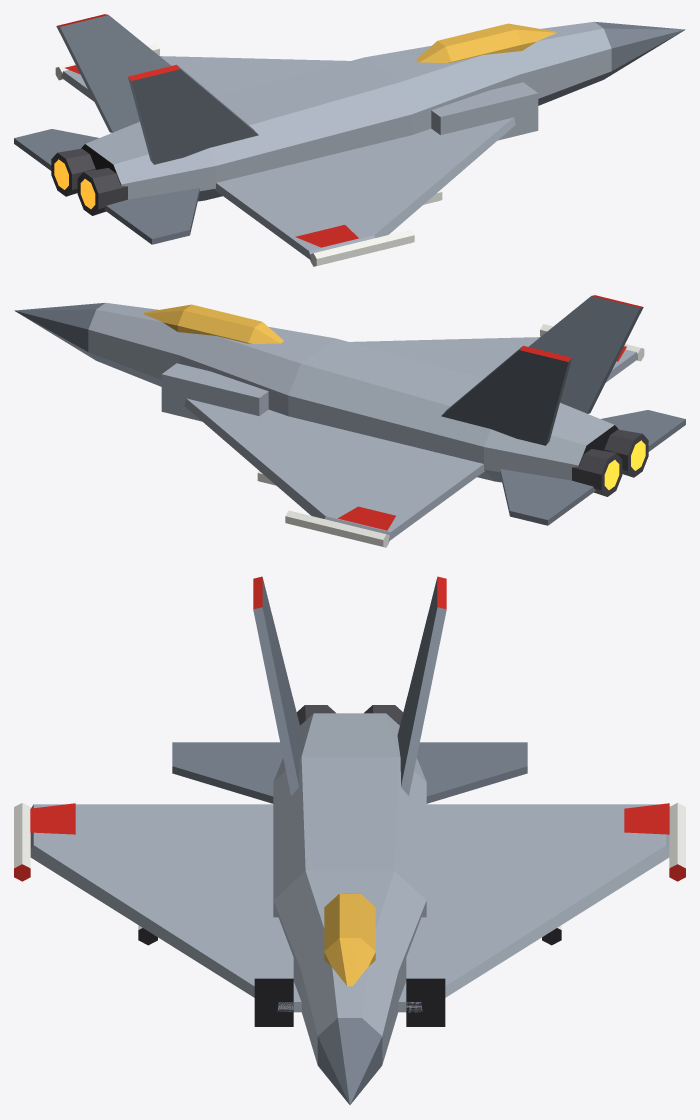
The model's file is jet.glb.
3 renders of one model, top to bottom at view 1: azimuth 30°, elevation 25°; view 2: azimuth 150°, elevation 25°; view 3: azimuth 270°, elevation 25°, orthographic. The views are drawn at different scales.
Parts seen in each view (by area): view 1: Body; view 2: Body; view 3: Body.
Part boxes in pixels (x1=…): Body: x1=14, y1=14, x2=685, y2=266; Body: x1=14, y1=295, x2=685, y2=547; Body: x1=14, y1=576, x2=685, y2=1104.
Bounding box in the file's own units: 1.12 × 0.2806 × 0.8328.
